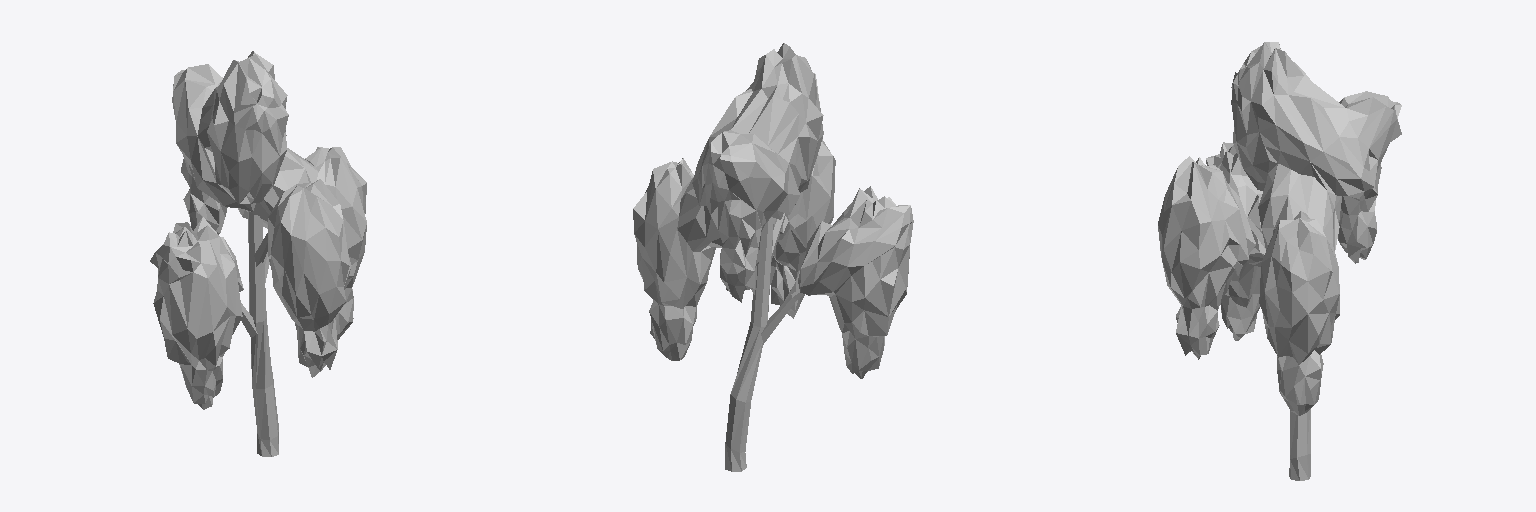
File: tree10.obj
3 renders of one model, left to right at view 1: azimuth 30°, elevation 25°; view 2: azimuth 150°, elevation 25°; view 3: azimuth 270°, elevation 25°, orthographic.
Visible parts, largest first — view 1: _10_tree; view 2: _10_tree; view 3: _10_tree.
Boxes of the visible parts, box(x1,y1,x2,y2) form: _10_tree: box(150, 51, 366, 456); _10_tree: box(633, 43, 913, 471); _10_tree: box(1158, 42, 1401, 480).
Size of the model in its own units: 1.16 by 1.97 by 1.04.